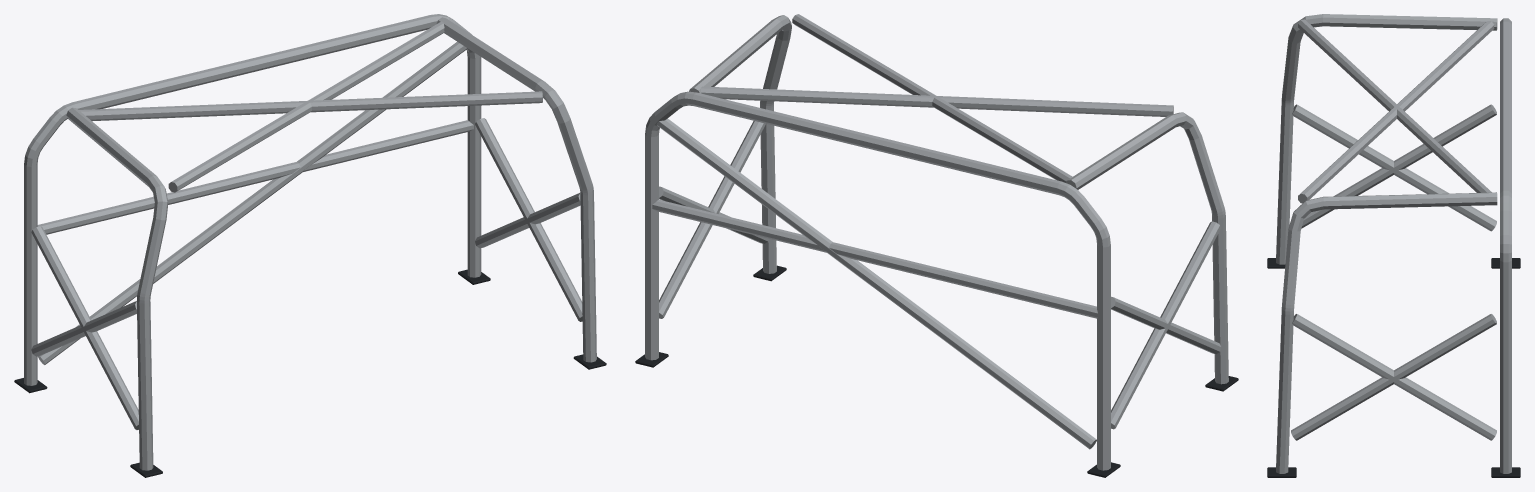
Rendered from apex_v8.glb.
The picture shows the model from 3 angles, left to right: view 1: azimuth 30°, elevation 25°; view 2: azimuth 150°, elevation 25°; view 3: azimuth 270°, elevation 25°; orthographic projection. The views are drawn at different scales.
Parts seen in each view (by area): view 1: model; view 2: model; view 3: model.
Boxes of the visible parts, left/top/right/bottom form: model: left=14, top=14, right=606, bottom=477; model: left=635, top=14, right=1238, bottom=477; model: left=1267, top=14, right=1520, bottom=477.
Size of the model in its own units: 1.75 by 0.984 by 0.8575.
Materials: 2 (1 with a texture image).
